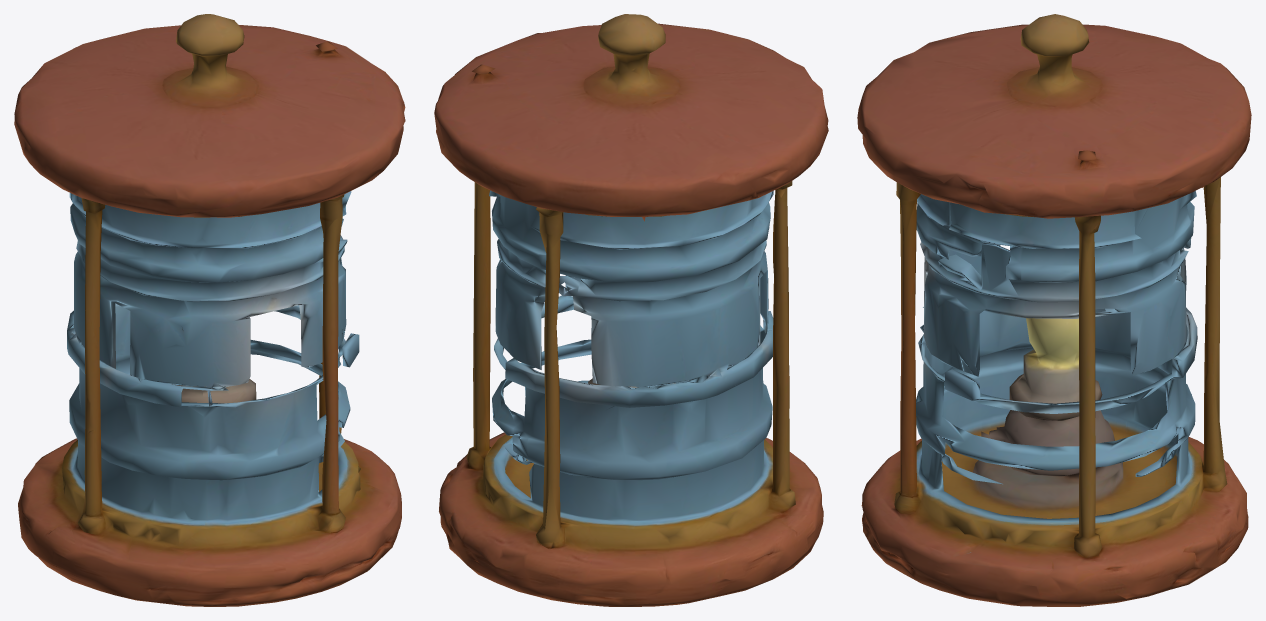
Rendered from fresnel-lamp.glb.
3 renders of one model, left to right at view 1: azimuth 30°, elevation 25°; view 2: azimuth 150°, elevation 25°; view 3: azimuth 270°, elevation 25°, orthographic.
Parts seen in each view (by area): view 1: tripo_node_b9d5f242-5235-426f-b07b-670c574d0bf0; view 2: tripo_node_b9d5f242-5235-426f-b07b-670c574d0bf0; view 3: tripo_node_b9d5f242-5235-426f-b07b-670c574d0bf0.
Boxes of the visible parts, x1,y1,x2,y2 form: tripo_node_b9d5f242-5235-426f-b07b-670c574d0bf0: (14, 14, 405, 606); tripo_node_b9d5f242-5235-426f-b07b-670c574d0bf0: (434, 14, 828, 606); tripo_node_b9d5f242-5235-426f-b07b-670c574d0bf0: (857, 14, 1251, 606).
Size of the model in its own units: 1.75 by 2.5 by 1.74.
1 material, 1 textured.
